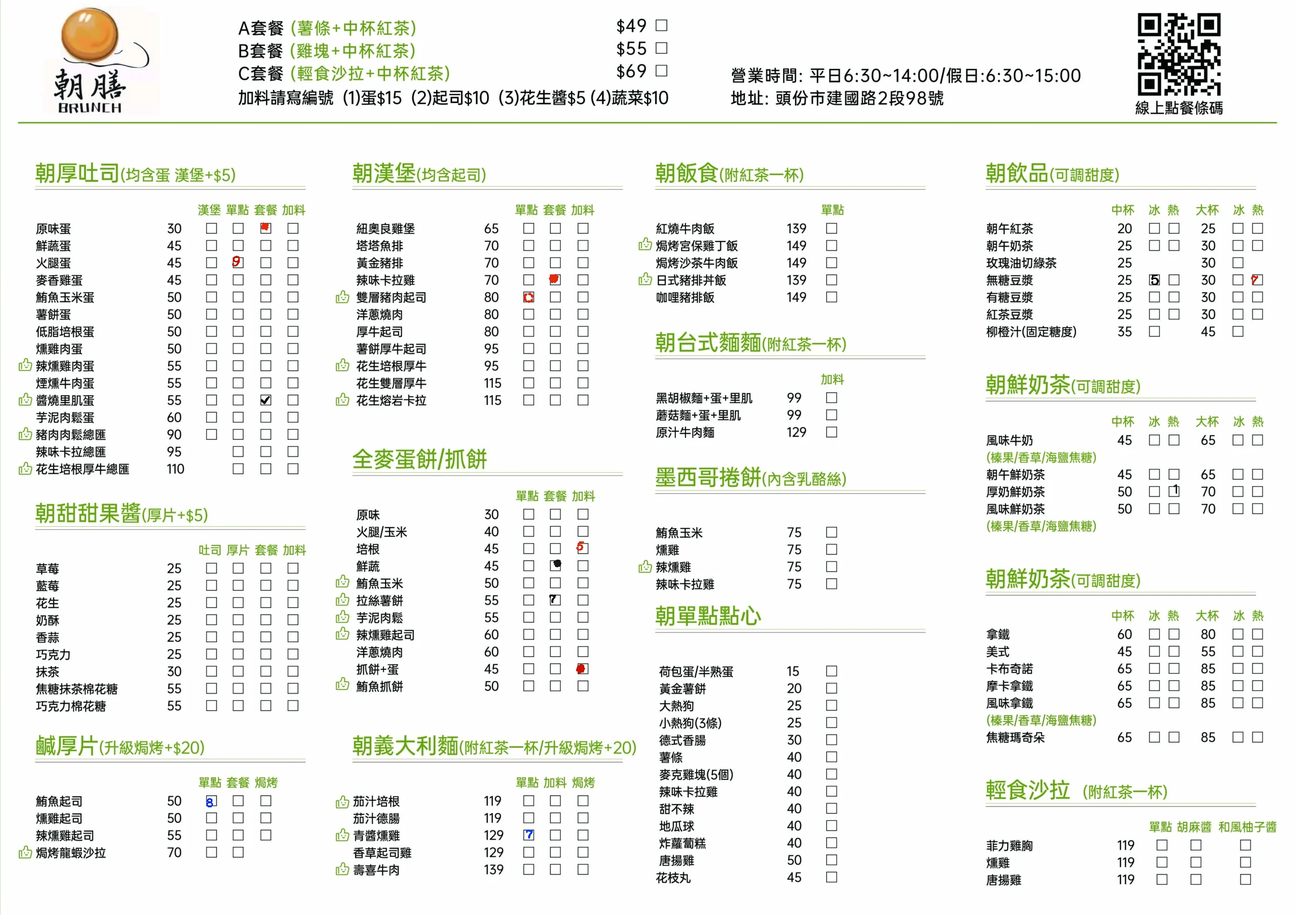marked_circle: (549, 273, 560, 284), (260, 222, 271, 233), (551, 559, 562, 569), (576, 663, 587, 673)
marked_hollow: (524, 292, 535, 302)
marked_number_1: (1169, 485, 1180, 495)
marked_number_5: (576, 542, 587, 553), (1149, 273, 1160, 284)
marked_number_7: (1251, 274, 1262, 285), (549, 594, 560, 605), (524, 829, 535, 839)
marked_number_8: (205, 796, 217, 806)
marked_number_9: (231, 257, 242, 267)
marked_tick: (260, 395, 271, 405)
